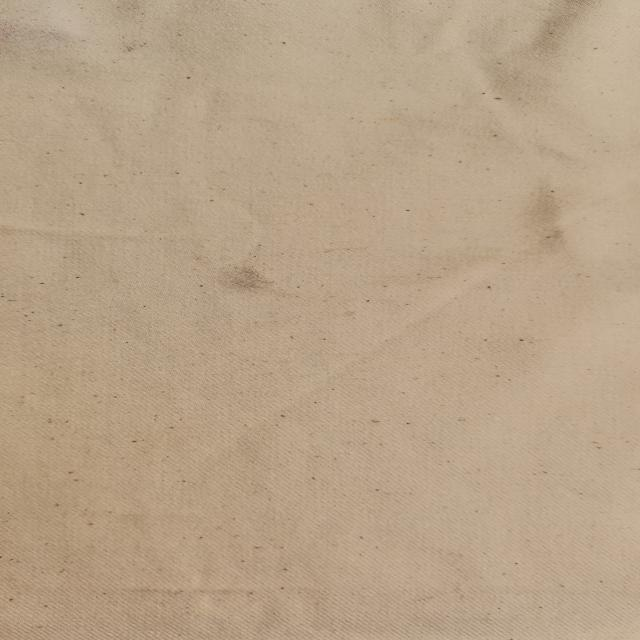taaaches: (520, 186, 578, 252), (219, 258, 277, 298)
